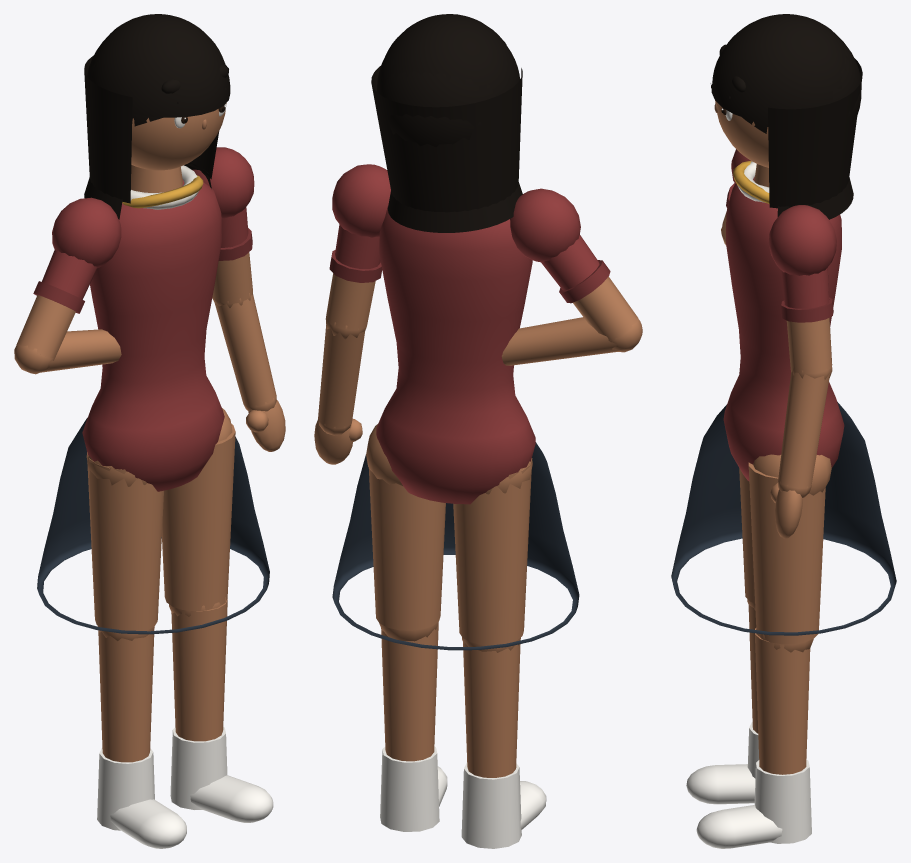
File: 13-tala.glb
The picture shows the model from 3 angles, left to right: view 1: azimuth 30°, elevation 25°; view 2: azimuth 150°, elevation 25°; view 3: azimuth 270°, elevation 25°; orthographic projection. The views are drawn at different scales.
Visible parts, largest first — view 1: Tala, skull, elbow (×2), armR, armL; view 2: Tala, skull, elbow (×2), armR, armL; view 3: Tala, skull, armL, elbow.
Part boxes in pixels (left/top/right/bottom): Tala: left=37, top=165, right=273, bottom=848; skull: left=84, top=14, right=230, bottom=219; elbow (×2): left=14, top=287, right=285, bottom=451; armR: left=16, top=197, right=121, bottom=360; armL: left=192, top=147, right=254, bottom=303; Tala: left=332, top=206, right=579, bottom=848; skull: left=371, top=14, right=522, bottom=232; elbow (×2): left=314, top=317, right=642, bottom=464; armR: left=510, top=188, right=638, bottom=342; armL: left=325, top=164, right=390, bottom=330; Tala: left=671, top=161, right=896, bottom=848; skull: left=710, top=14, right=862, bottom=219; armL: left=768, top=205, right=836, bottom=373; elbow: left=770, top=363, right=832, bottom=538.
Size of the model in its own units: 0.5065 by 1.32 by 0.3371.
